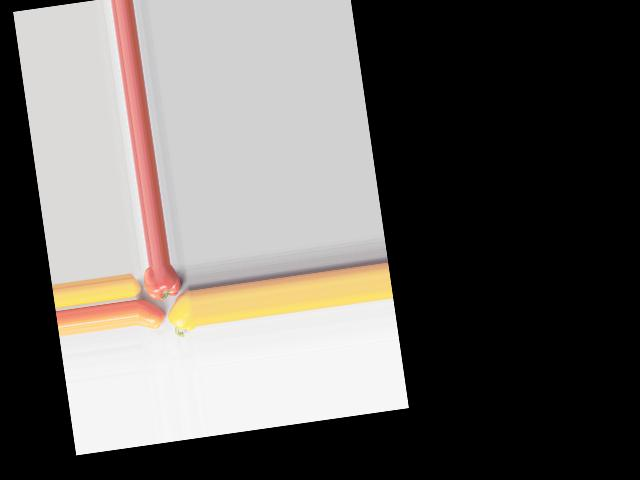bell_pepper: (142, 263, 185, 301)
